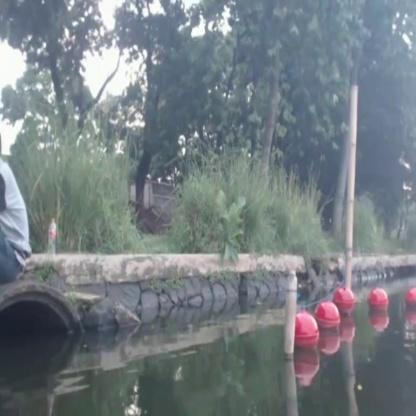red_buoy: (296, 312, 318, 352), (321, 300, 341, 338), (367, 288, 387, 322), (339, 288, 354, 318), (404, 287, 415, 314)
